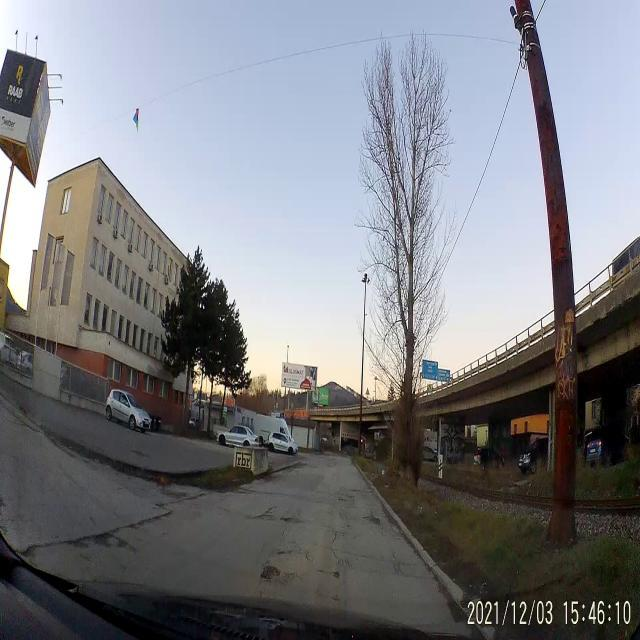Pothole: (262, 561, 284, 586), (360, 509, 382, 529), (254, 504, 274, 522), (282, 513, 300, 526)
